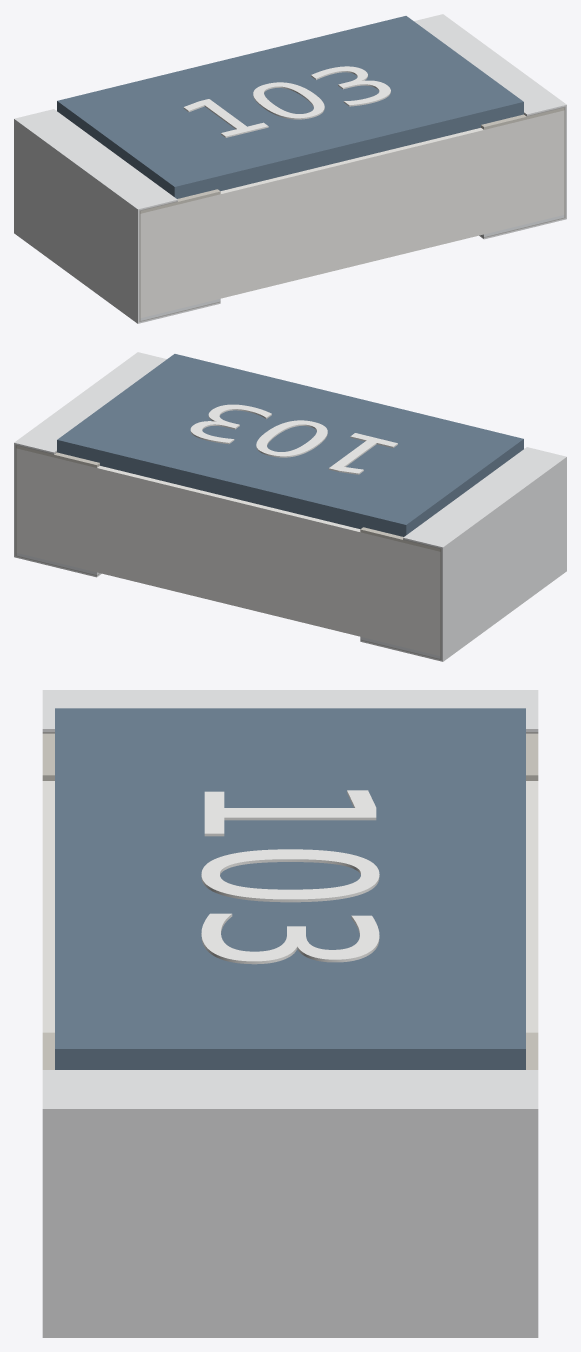
The model's file is chip_resistor_0603_true_scale.glb.
3 renders of one model, top to bottom at view 1: azimuth 30°, elevation 25°; view 2: azimuth 150°, elevation 25°; view 3: azimuth 270°, elevation 25°, orthographic. The views are drawn at different scales.
Visible parts, largest first — view 1: substrate, overcoat_secondary, tin_L, tin_R, marking, top_electrode_R, top_electrode_L; view 2: substrate, overcoat_secondary, tin_L, tin_R, marking, top_electrode_R, top_electrode_L; view 3: overcoat_secondary, tin_R, marking, tin_L, substrate, top_electrode_L, top_electrode_R.
Part boxes in pixels (x1,y1,x2,y2): substrate: [140, 110, 564, 318]; overcoat_secondary: [57, 16, 523, 198]; tin_L: [14, 109, 220, 323]; tin_R: [414, 14, 566, 239]; marking: [183, 66, 390, 137]; top_electrode_R: [481, 107, 564, 129]; top_electrode_L: [56, 110, 220, 213]; substrate: [16, 448, 440, 656]; overcoat_secondary: [57, 354, 523, 536]; tin_L: [360, 447, 566, 661]; tin_R: [14, 352, 166, 577]; marking: [190, 404, 397, 474]; top_electrode_R: [16, 445, 99, 467]; top_electrode_L: [360, 448, 524, 551]; overcoat_secondary: [55, 708, 525, 1069]; tin_R: [42, 1070, 538, 1337]; marking: [201, 790, 379, 964]; tin_L: [42, 690, 538, 731]; substrate: [42, 781, 538, 1032]; top_electrode_L: [42, 733, 538, 780]; top_electrode_R: [42, 1032, 538, 1069].
Bounding box in the file's own units: 1.6 × 0.45 × 0.8.
